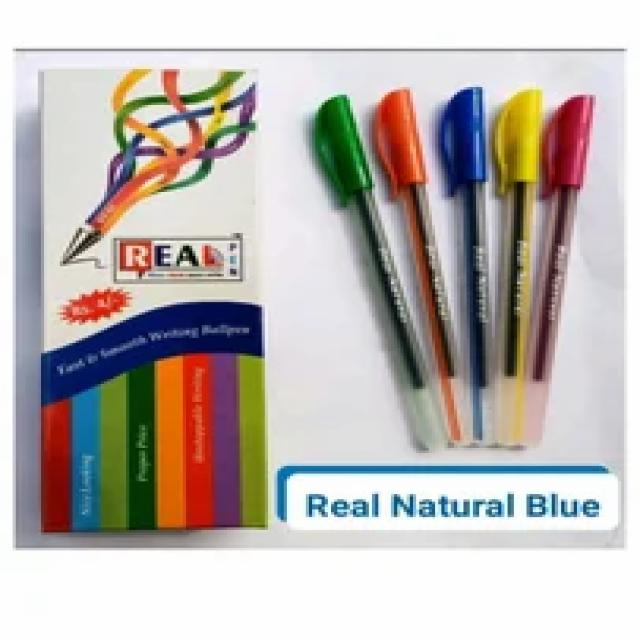pen: (296, 79, 460, 455), (374, 58, 466, 467), (516, 87, 608, 453), (489, 83, 552, 459), (447, 77, 494, 445)
